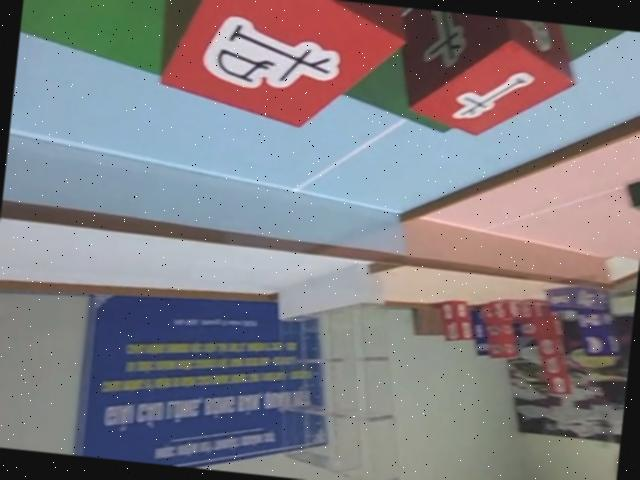R2 Real: (142, 0, 404, 139), (381, 6, 588, 151)
